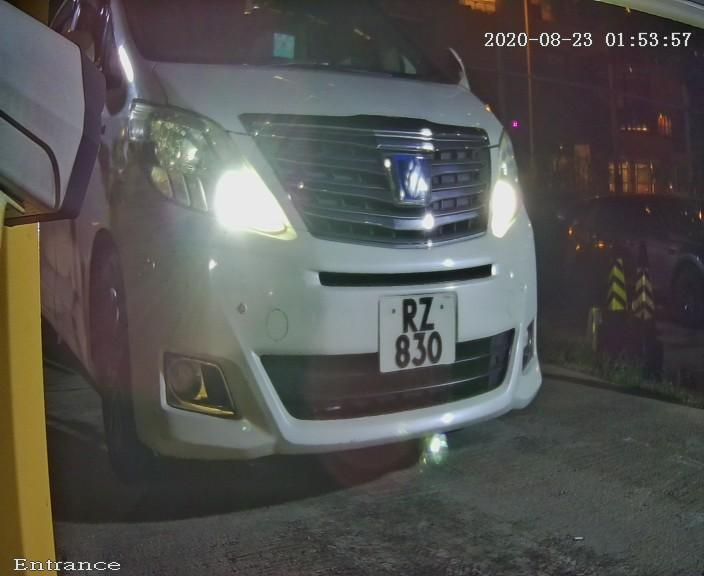Car: (48, 8, 579, 517)
License Plate: (365, 278, 472, 386)
